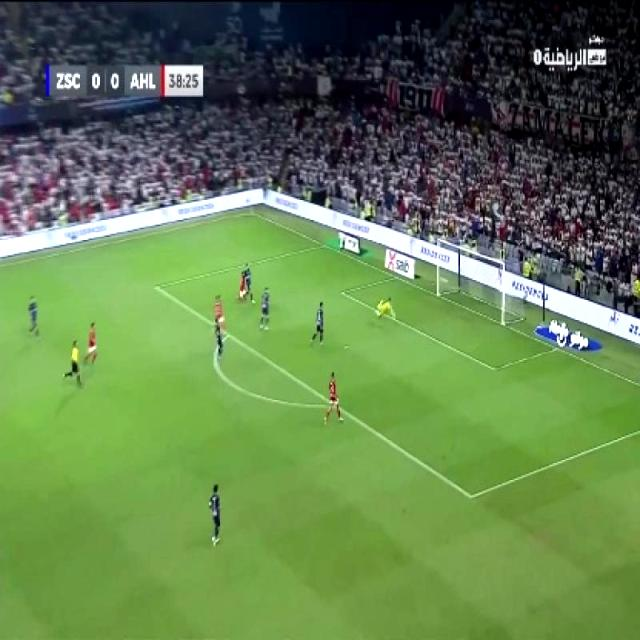bigarea_bottom_inner: (463, 482, 477, 508)
bigarea_top_inner: (150, 280, 160, 292)
bigarea_top_outter: (318, 240, 325, 248)
bottom_arc_area_intersection: (335, 400, 343, 412)
corner: (248, 209, 257, 216)
smallarea_bottom_inner: (490, 361, 500, 376)
smallarea_bottom_outter: (552, 343, 560, 352)
smallarea_top_inner: (337, 286, 345, 296)
top_arc_area_intersection: (225, 331, 232, 342)
